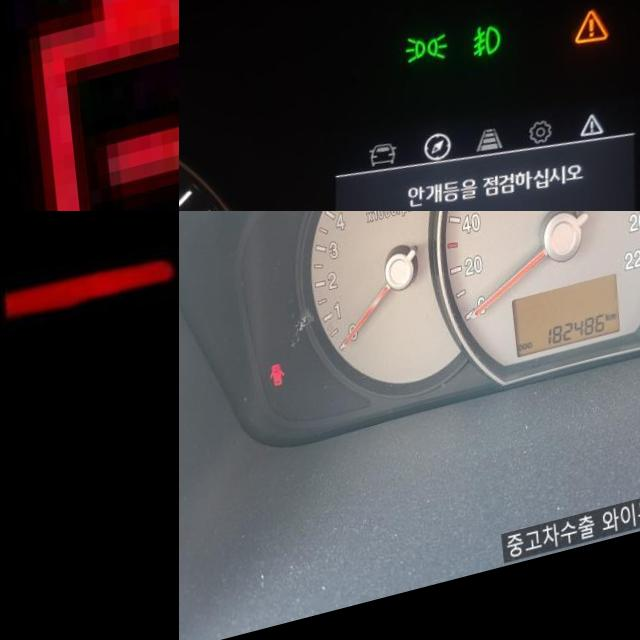Central Warning lamp: (564, 30, 607, 73)
Doors: (258, 368, 276, 394)
FrontFogLight: (465, 40, 499, 80)
SideLamp: (398, 45, 446, 86)
